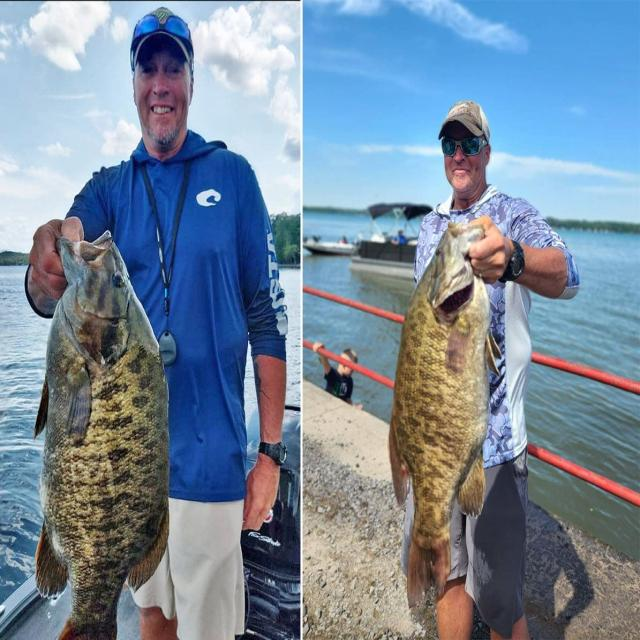Bass - Smallmouth: (35, 232, 168, 638), (389, 224, 500, 606)
